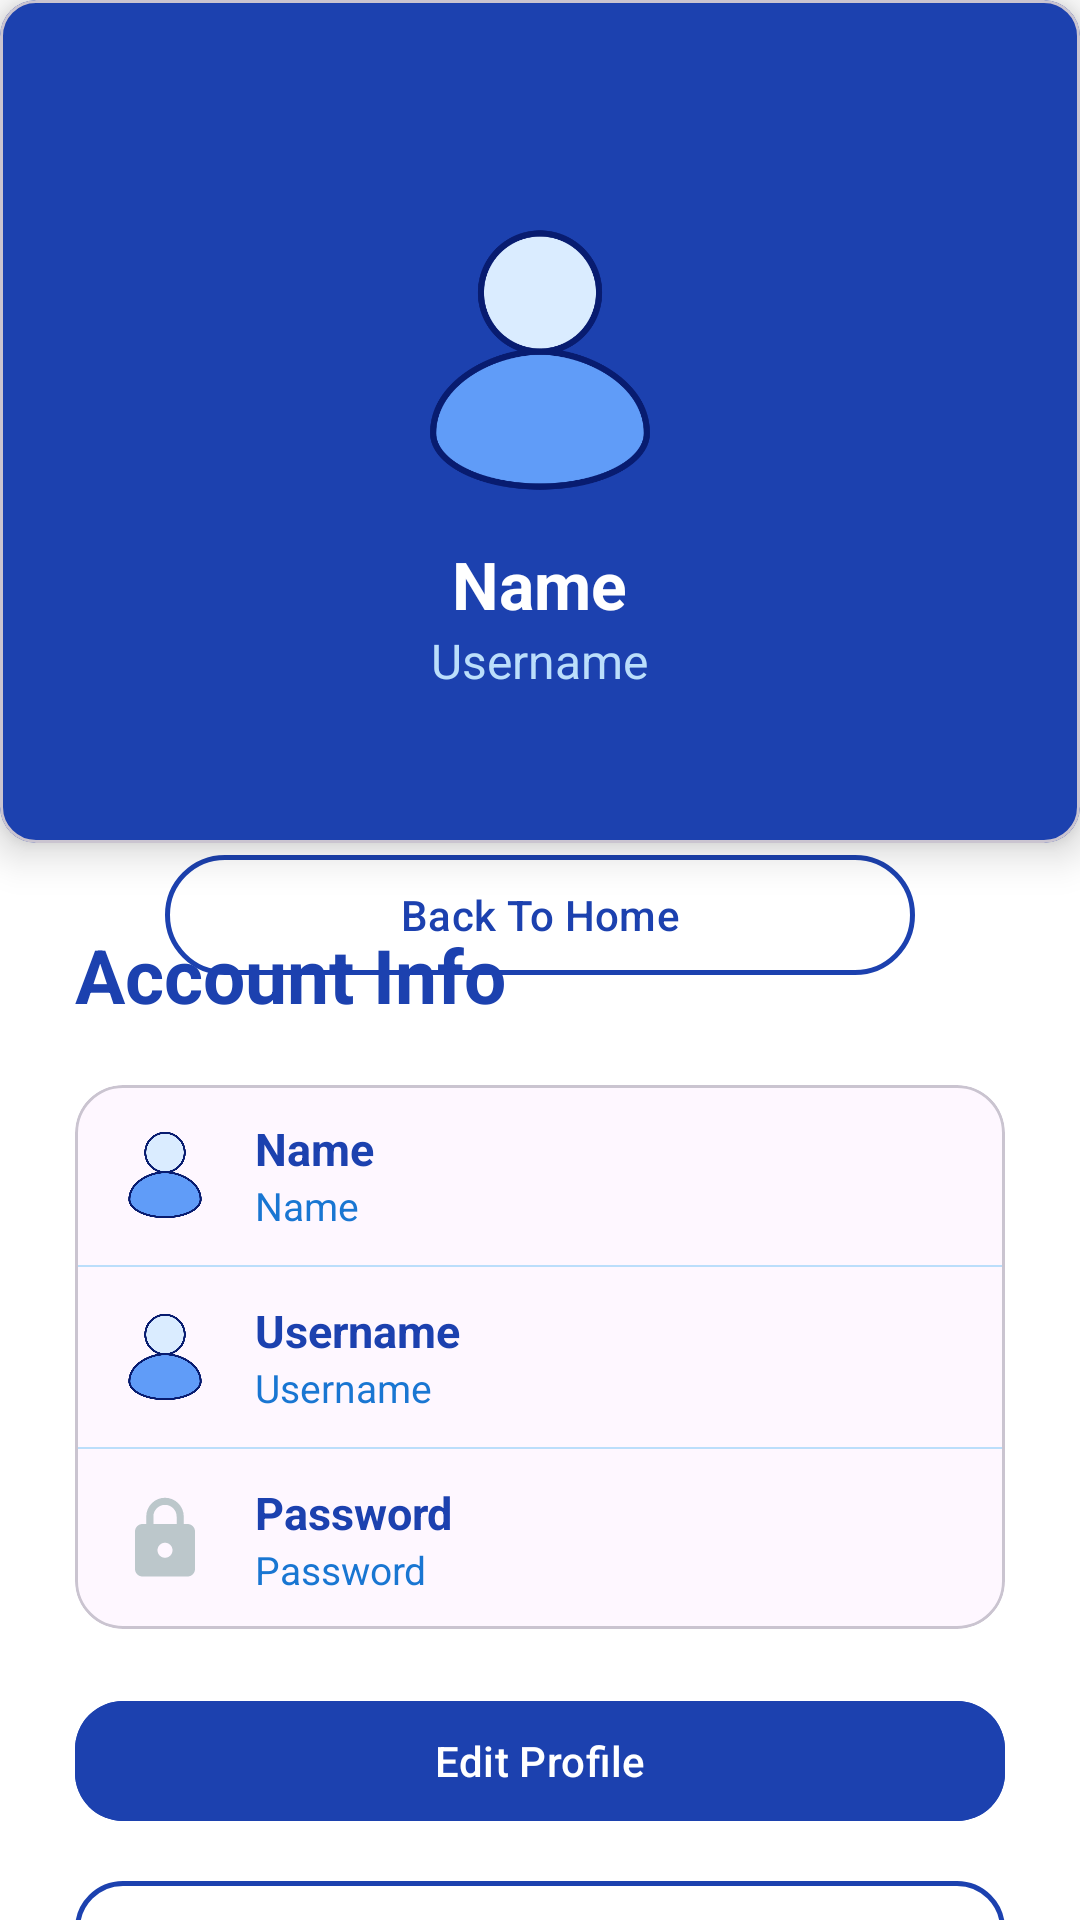

Where to tap for icons on this 1080w x 1920h app screen, as (x=x, y=y):
lock: (x=165, y=1537)
